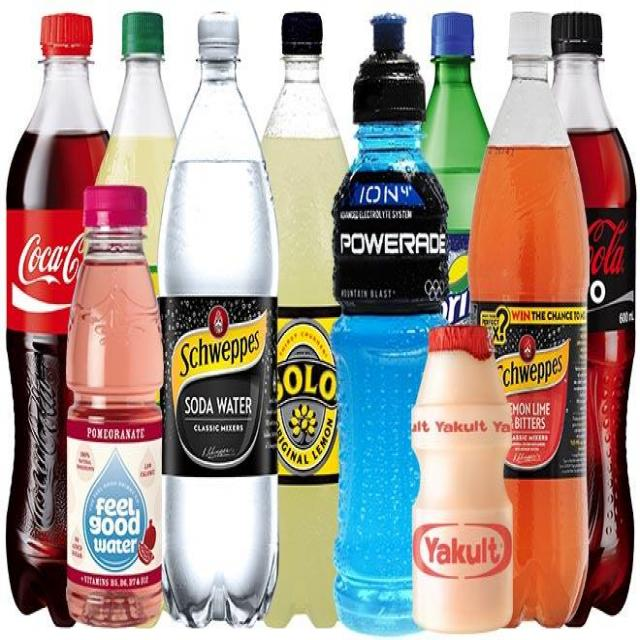plastic_bottle: (470, 12, 591, 617), (169, 17, 276, 628), (535, 4, 637, 640), (260, 5, 349, 634), (338, 9, 428, 624), (17, 21, 104, 640), (400, 300, 526, 640), (76, 182, 171, 627), (419, 1, 493, 338), (109, 17, 177, 282)
